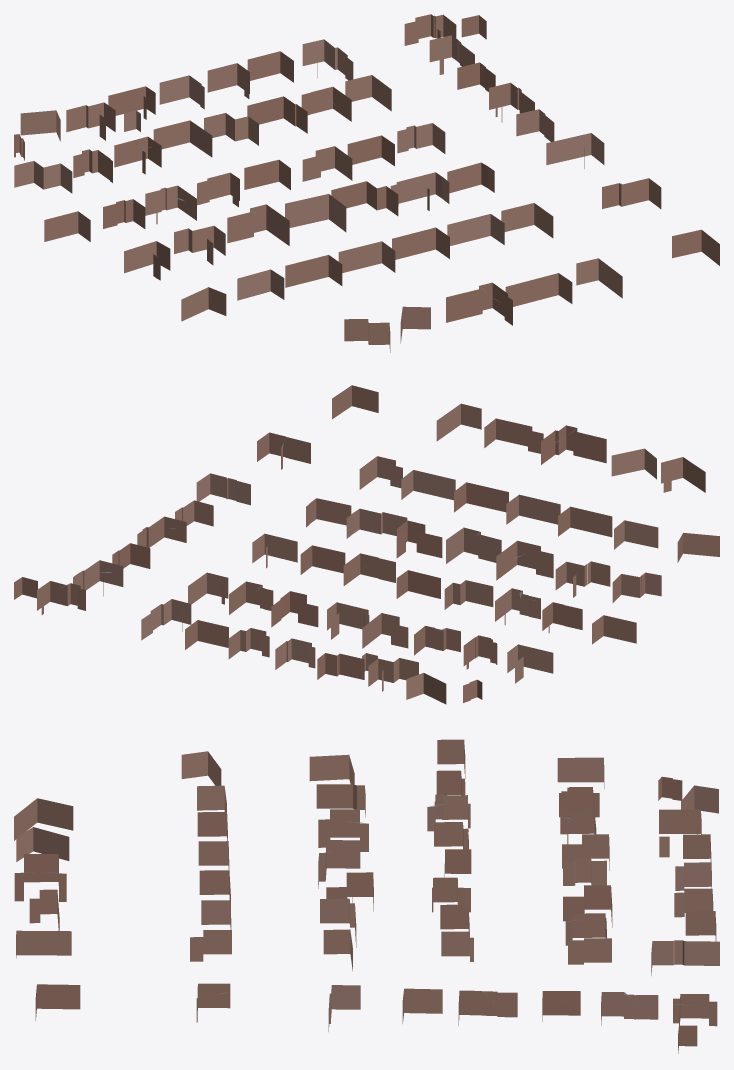
File: c_1647_17836_buildings_residential.glb
3 renders of one model, top to bottom at view 1: azimuth 30°, elevation 25°; view 2: azimuth 150°, elevation 25°; view 3: azimuth 270°, elevation 25°, orthographic. The views are drawn at different scales.
Visible parts, largest first — view 1: geometry_0; view 2: geometry_0; view 3: geometry_0.
Boxes of the visible parts, x1,y1,x2,y2 form: geometry_0: (14,14,719,352); geometry_0: (14,385,719,704); geometry_0: (14,739,719,1053).
Bounding box in the file's own units: 243 × 11.08 × 249.
